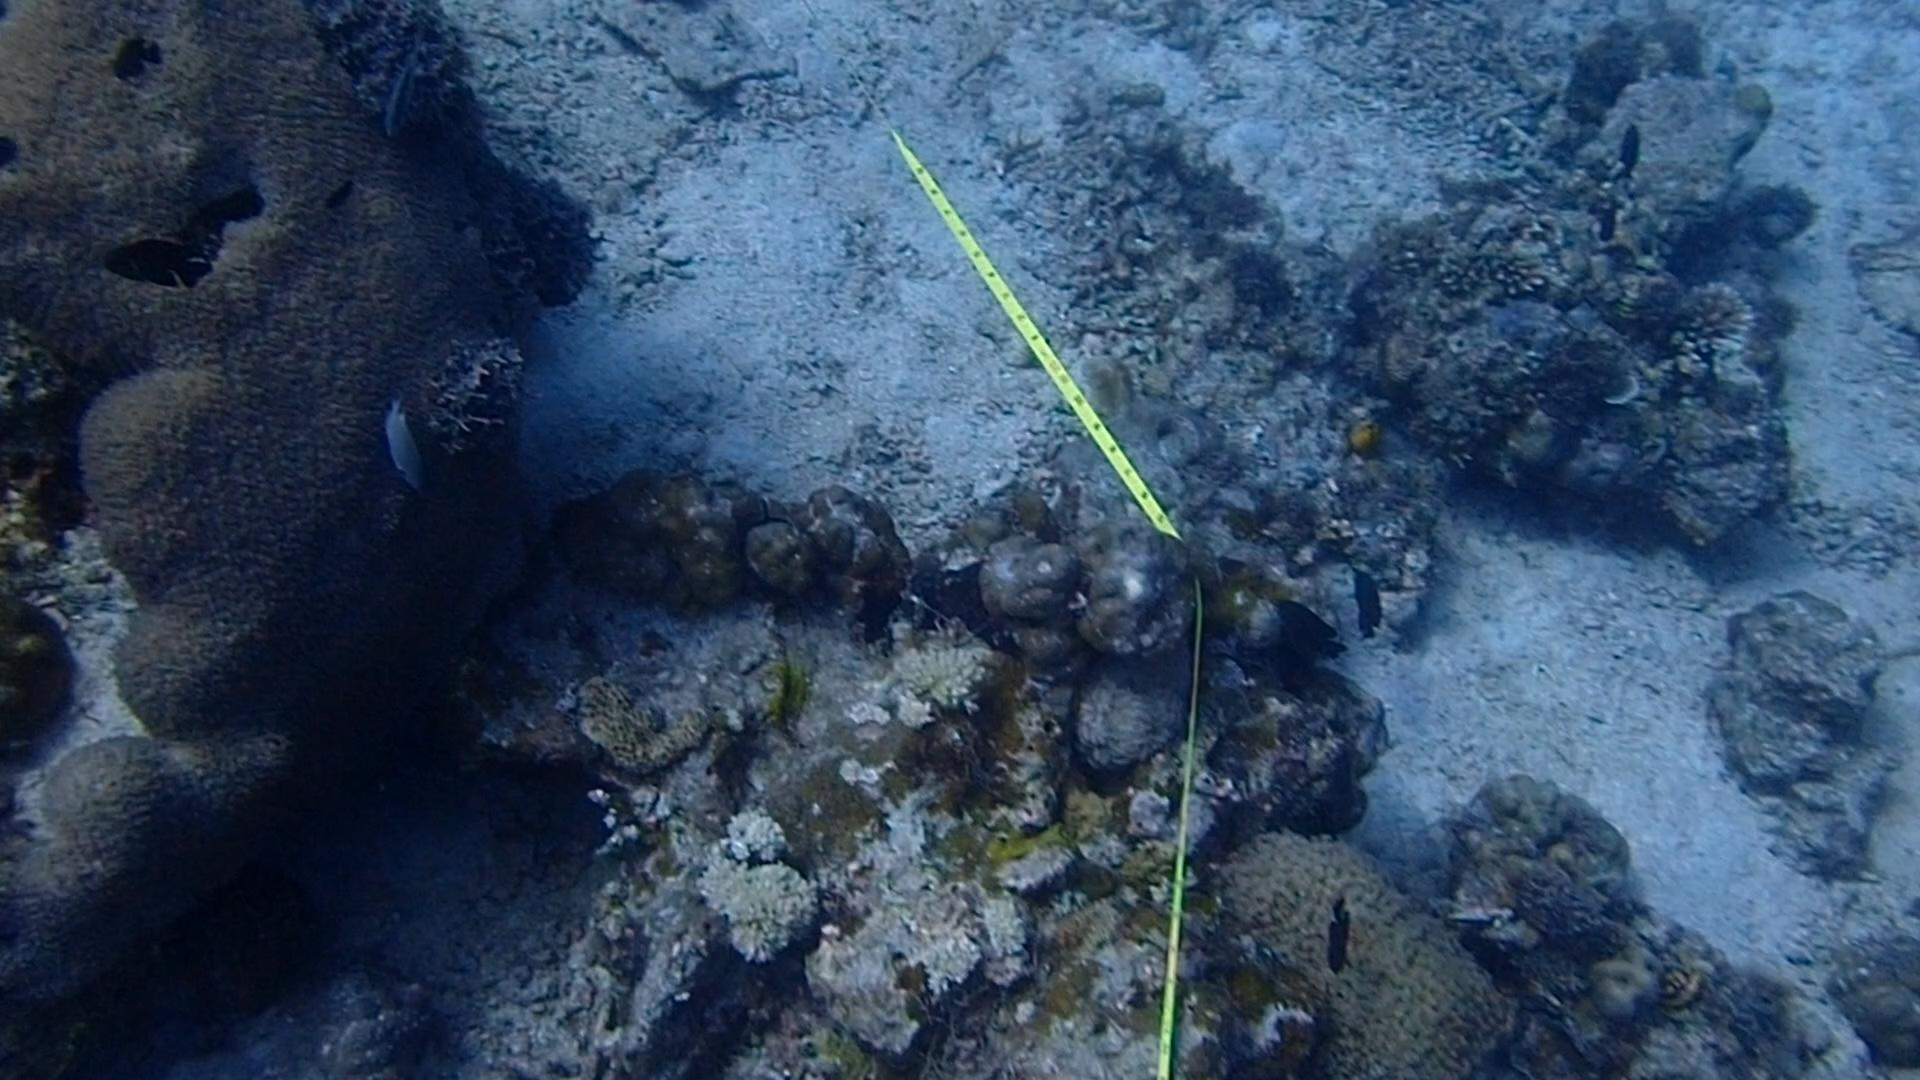Dark Fish: (1423, 914, 1544, 1000), (1245, 579, 1353, 669), (91, 229, 214, 303), (1593, 98, 1671, 174), (1303, 890, 1365, 972), (99, 30, 170, 96), (1340, 555, 1391, 646), (1578, 190, 1634, 249), (311, 170, 364, 219)
Light Fish: (368, 377, 435, 504), (365, 40, 433, 131)
